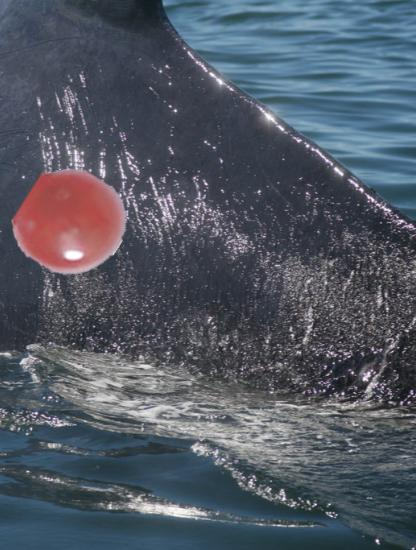Redcurrant: (17, 169, 125, 277)
